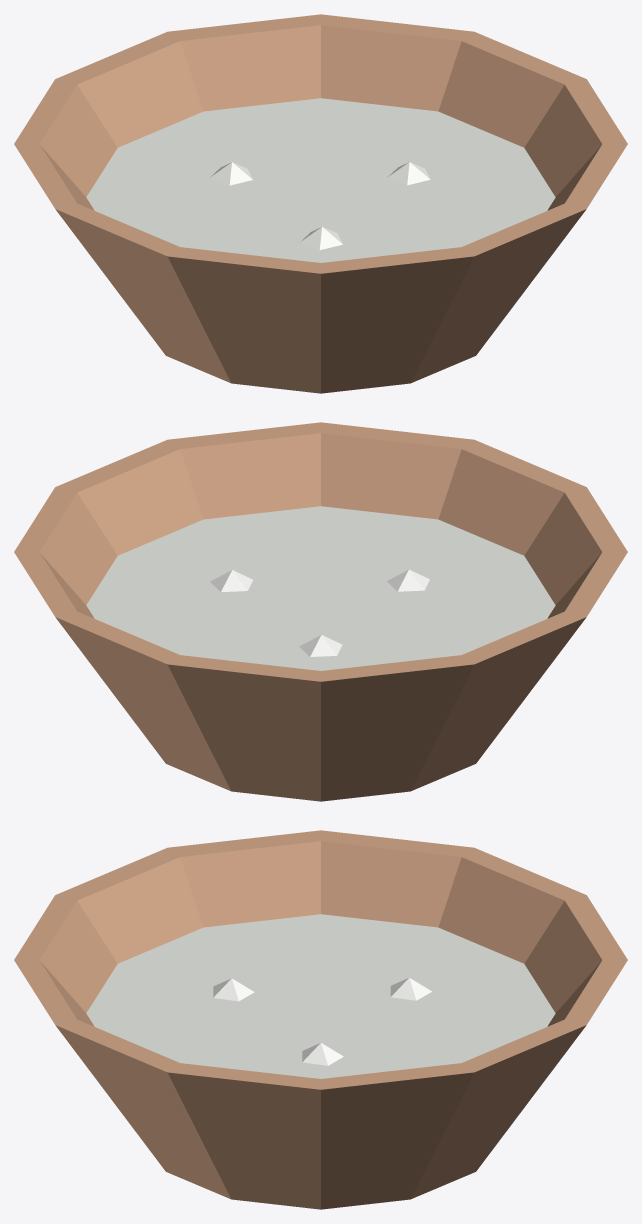
The model's file is prop-soap-solution-bowl.fbx.
3 views of the same model, one above another, from view 1: azimuth 30°, elevation 25°; view 2: azimuth 150°, elevation 25°; view 3: azimuth 270°, elevation 25° (orthographic).
Parts seen in each view (by area): view 1: prop-soap-solution-bowl; view 2: prop-soap-solution-bowl; view 3: prop-soap-solution-bowl.
Part boxes in pixels (x1,y1,x2,y2): prop-soap-solution-bowl: (14, 14, 627, 393); prop-soap-solution-bowl: (14, 422, 627, 801); prop-soap-solution-bowl: (14, 830, 627, 1209).
Bounding box in the file's own units: 24 × 7.5 × 24.
